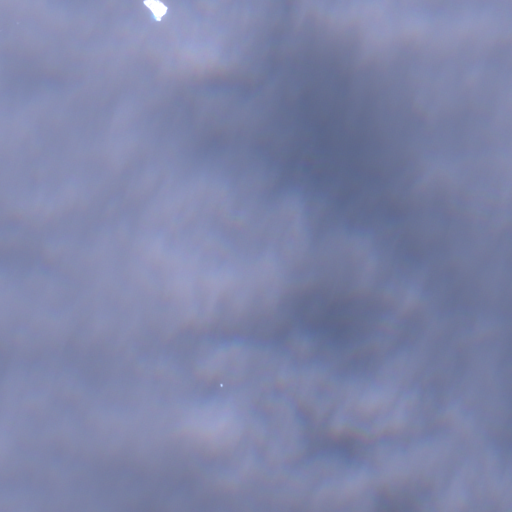Iceberg: (143, 0, 167, 20), (220, 384, 222, 386)
